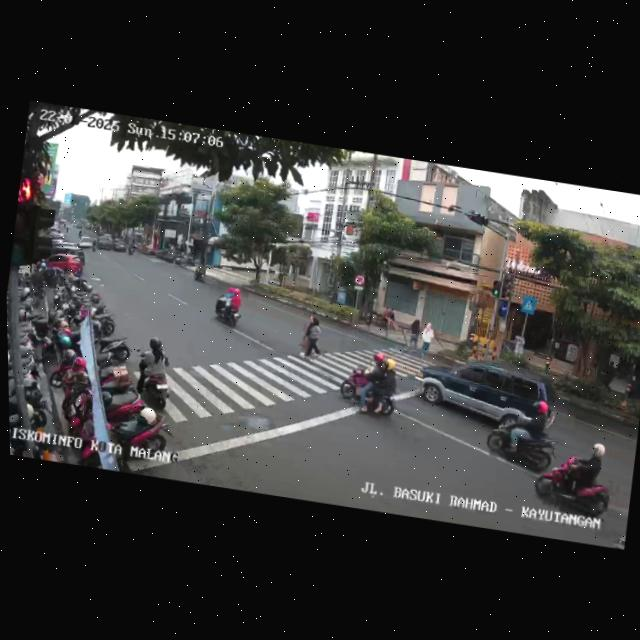car: (409, 351, 563, 436), (43, 239, 88, 277), (93, 233, 122, 252)
motorcycle: (533, 434, 622, 529), (481, 392, 564, 475), (337, 350, 408, 420), (132, 336, 177, 409), (212, 281, 247, 329), (299, 311, 325, 360)
person: (418, 319, 436, 360), (405, 316, 423, 354)
